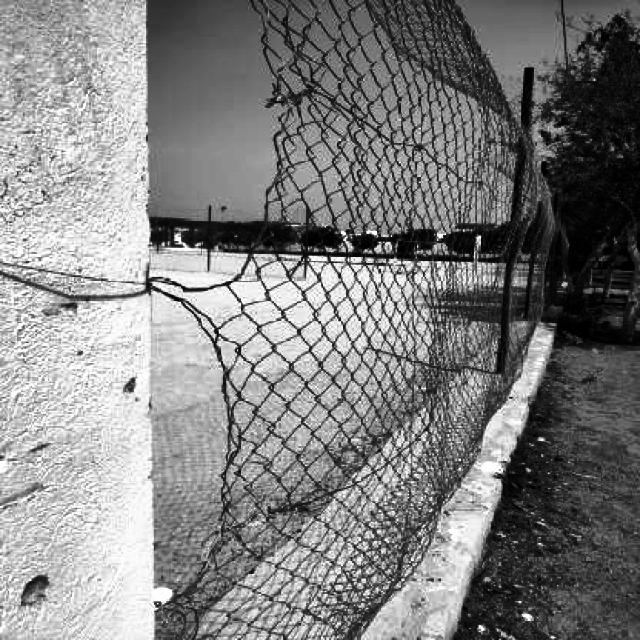anomaly-fence: (0, 3, 293, 640), (489, 90, 583, 269)
